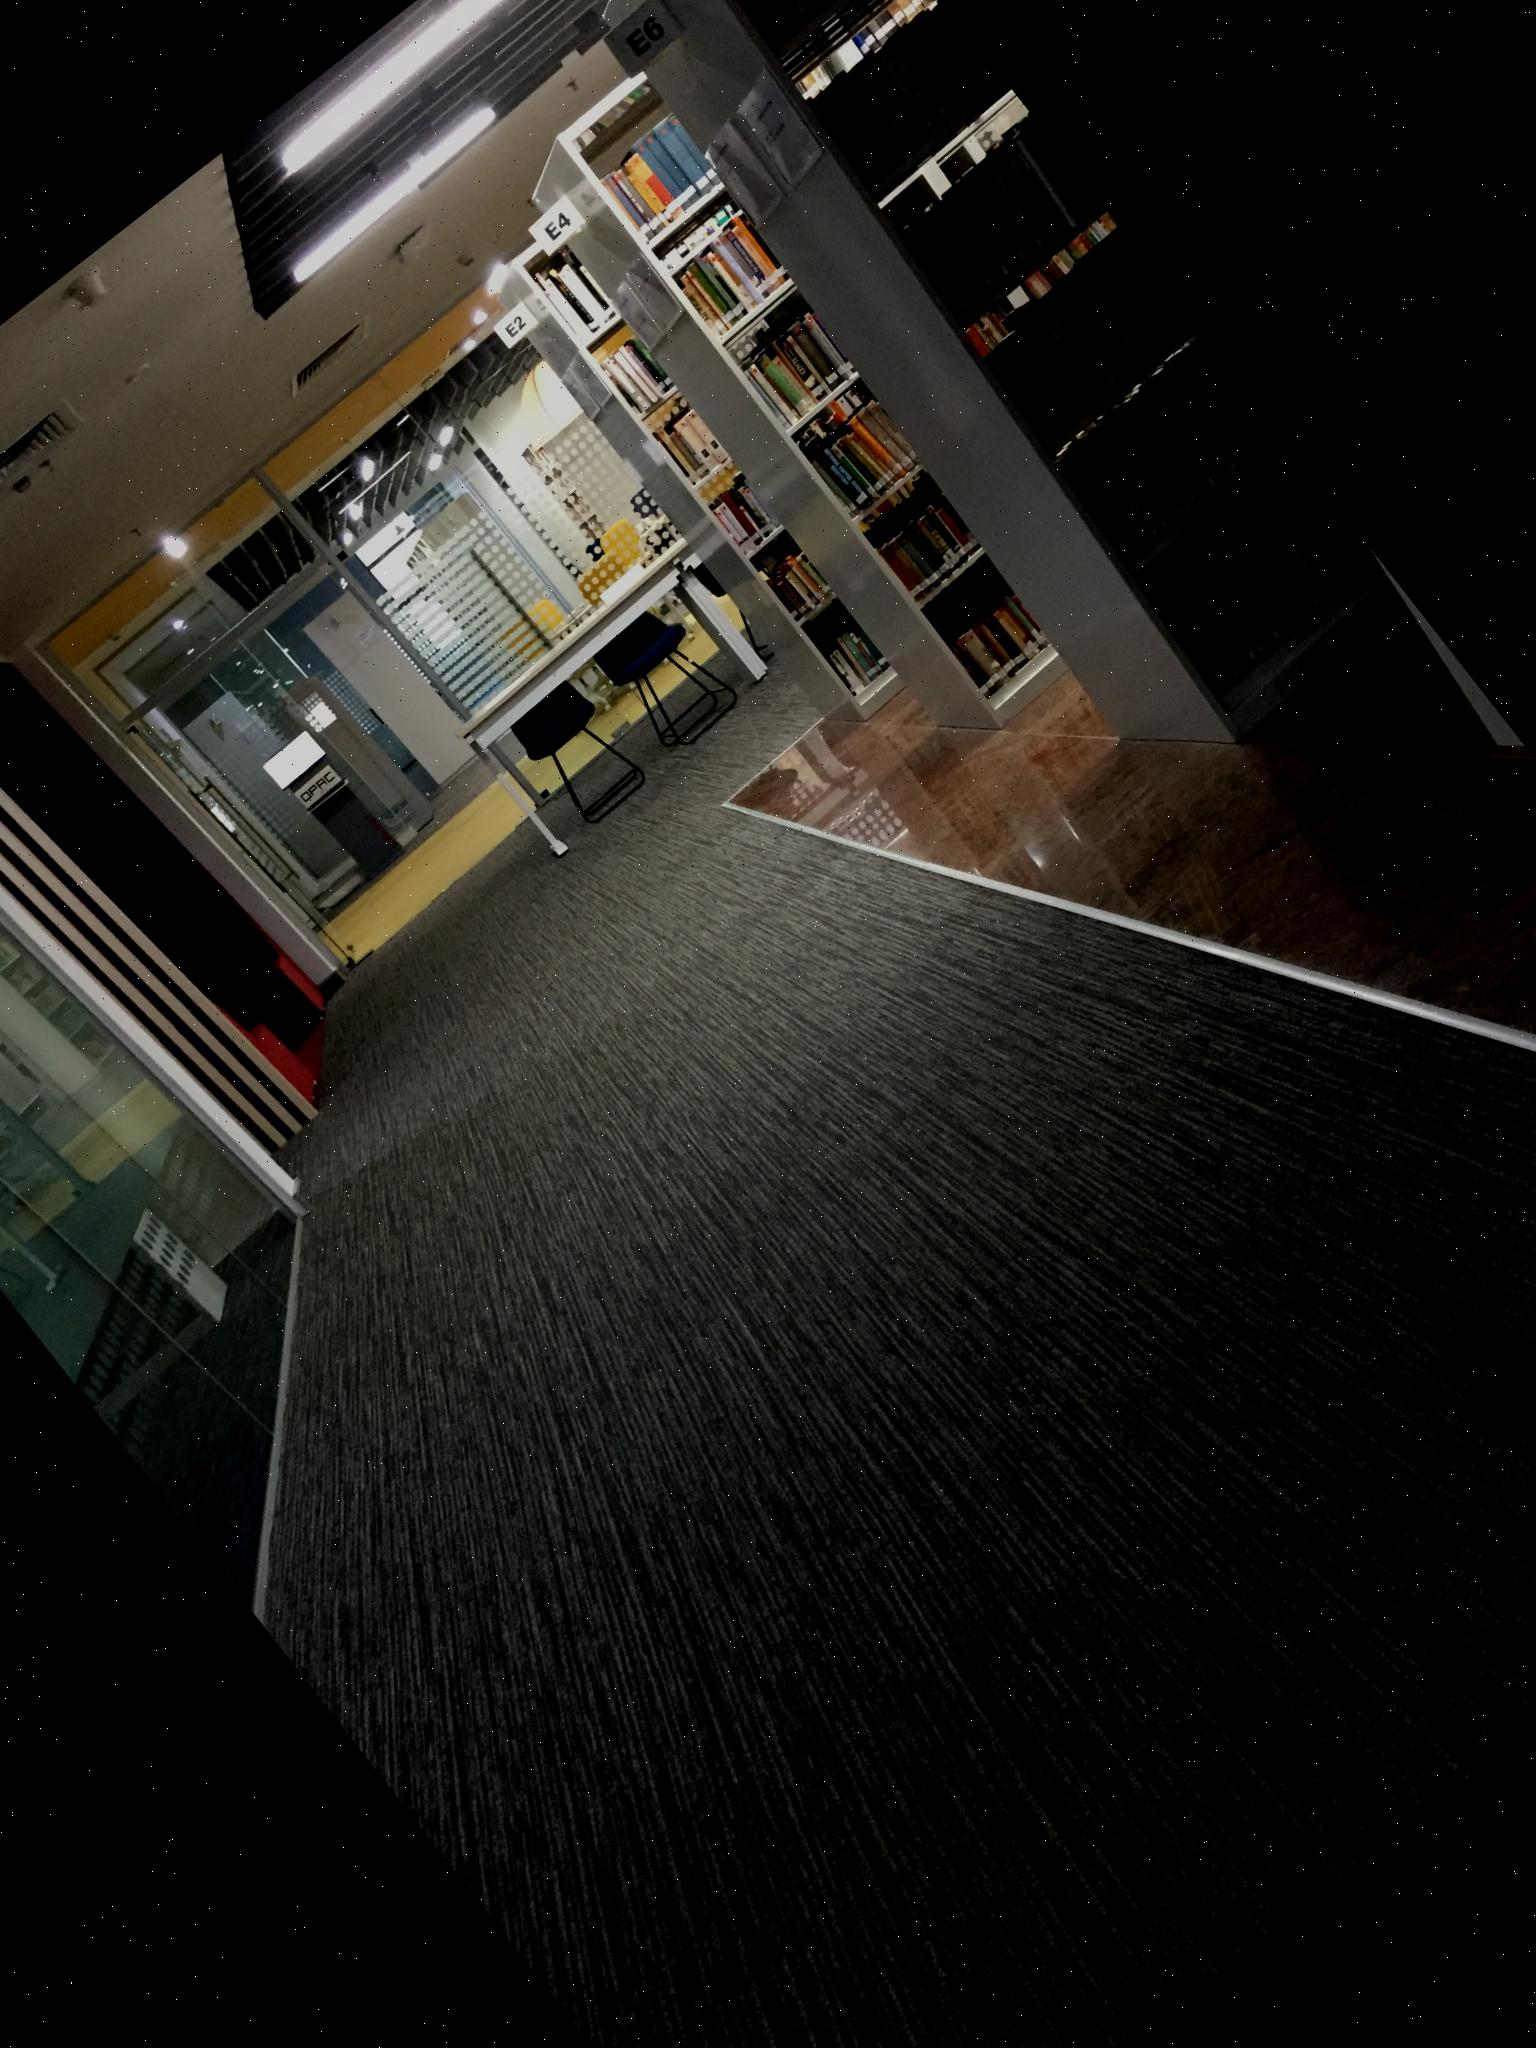chair: (589, 597, 744, 758), (503, 674, 650, 829), (663, 519, 795, 669)
